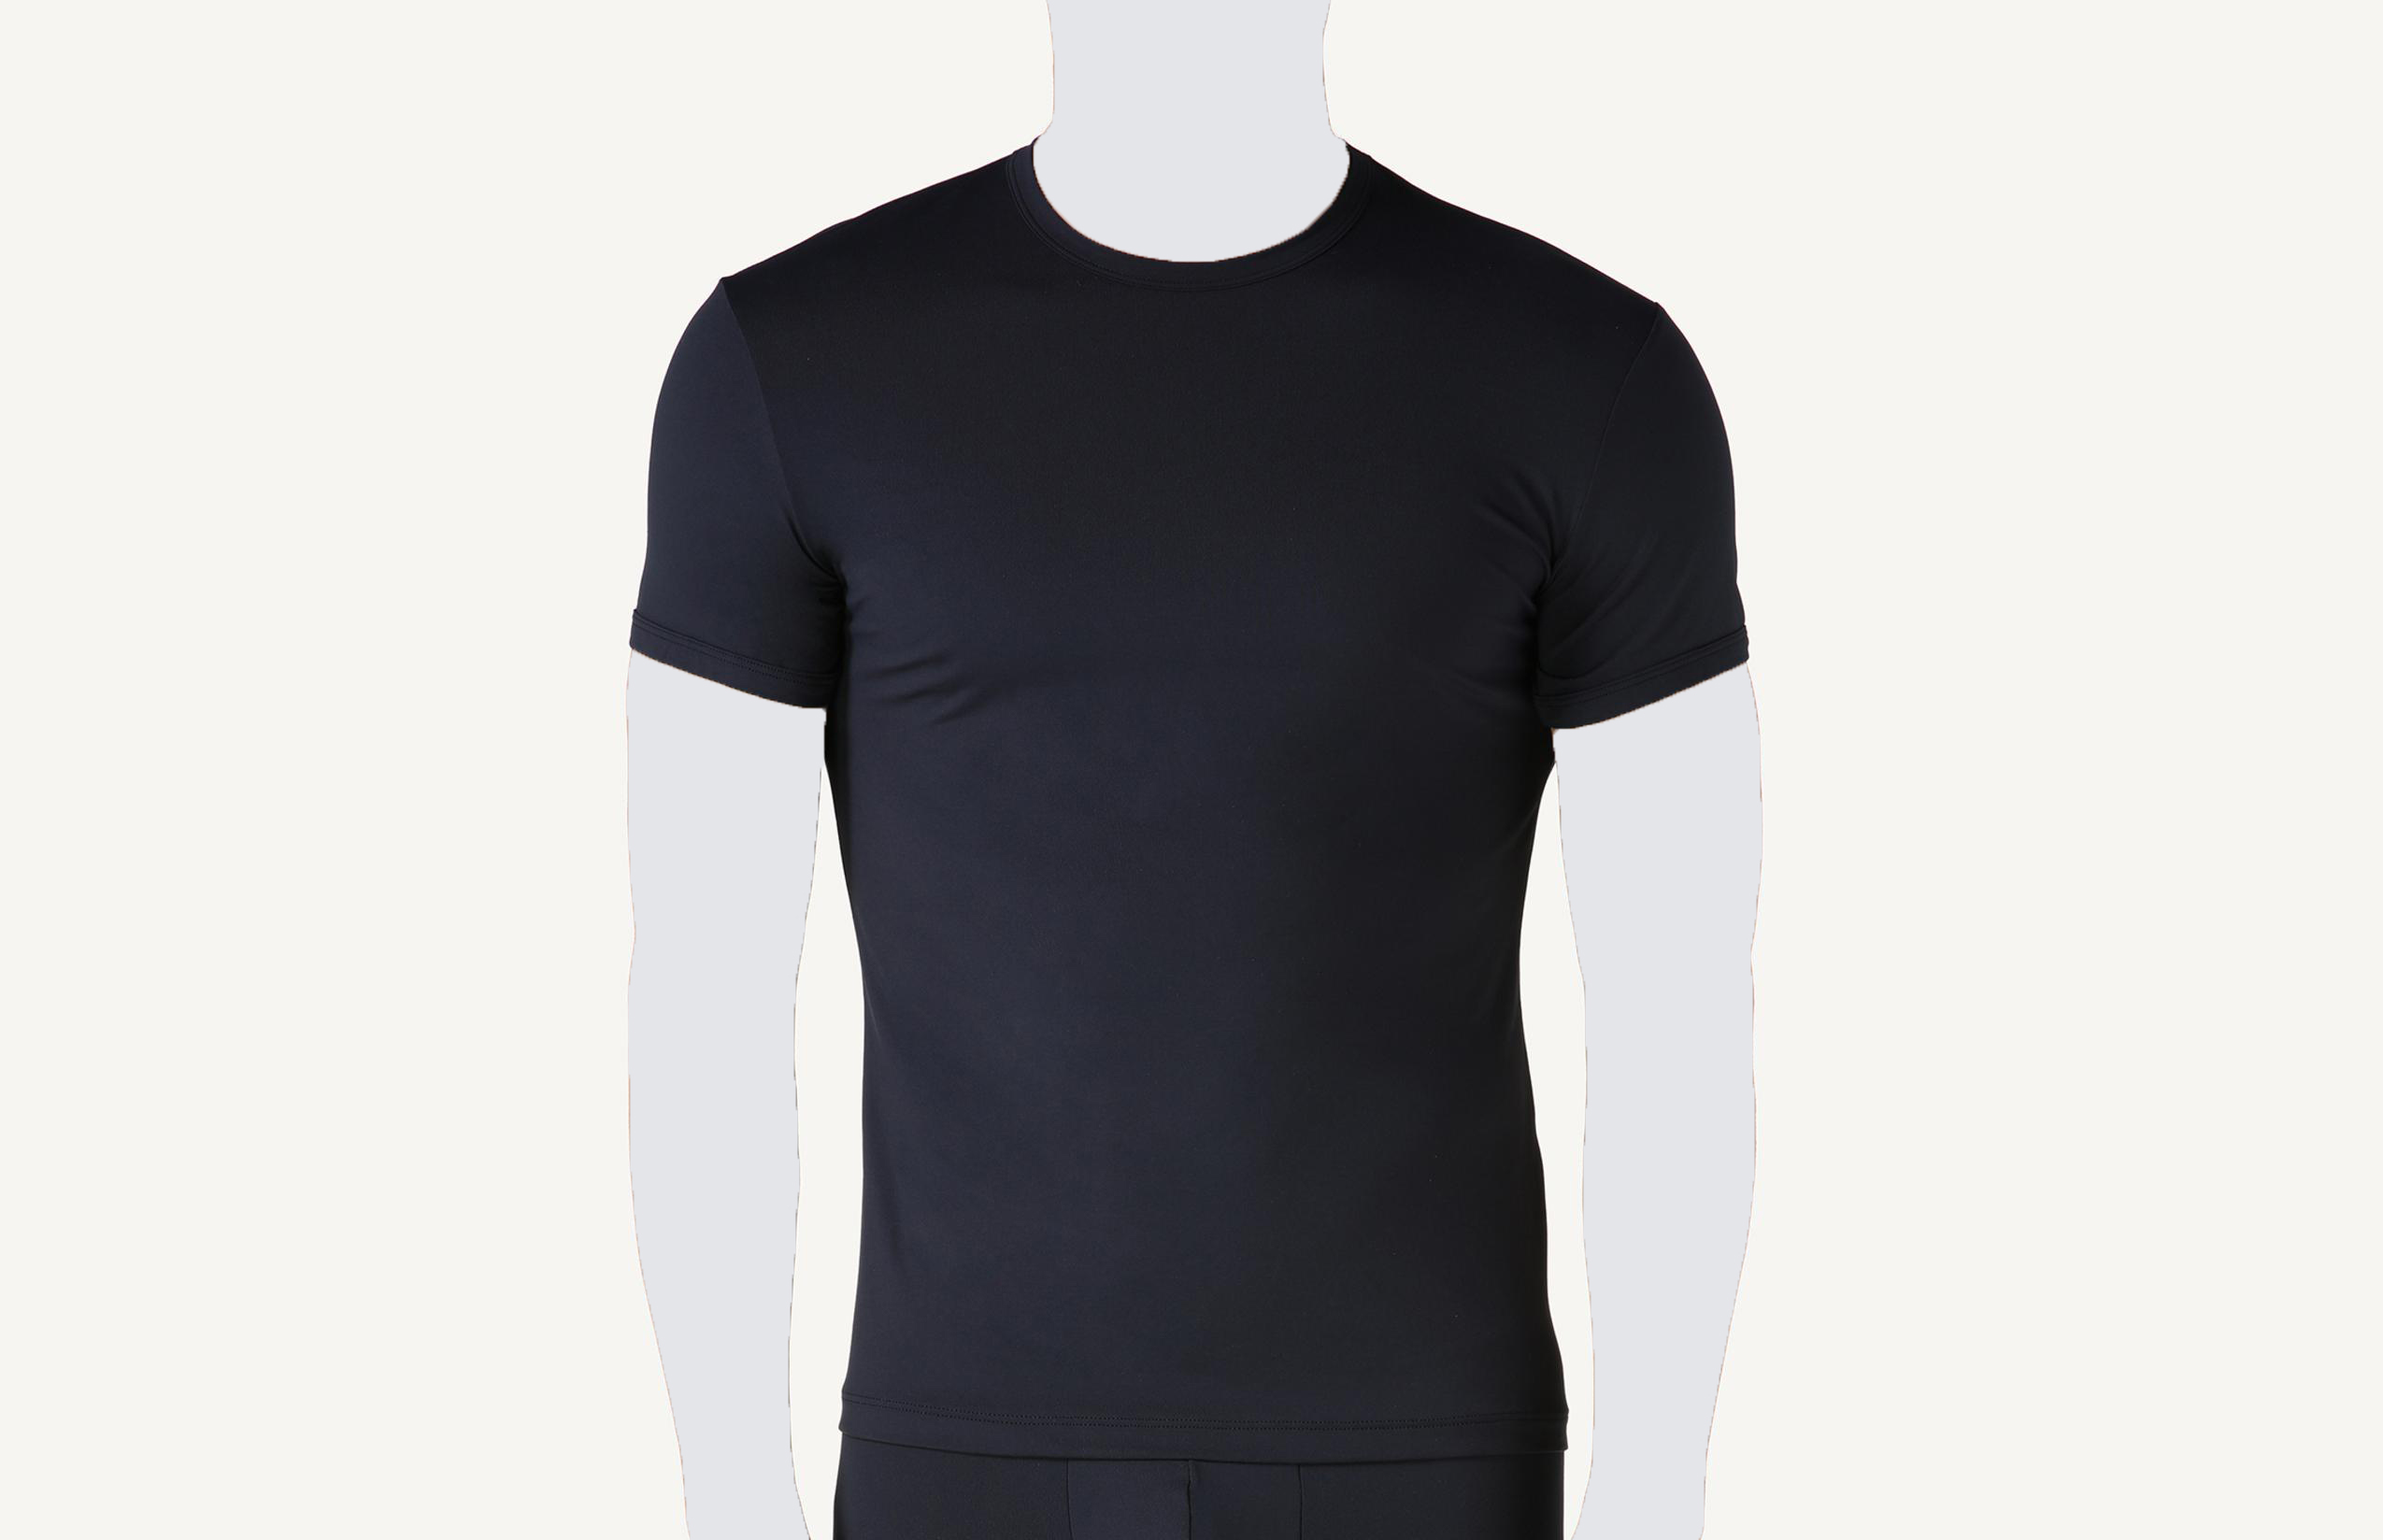teeshirt: (608, 137, 1768, 1521)
